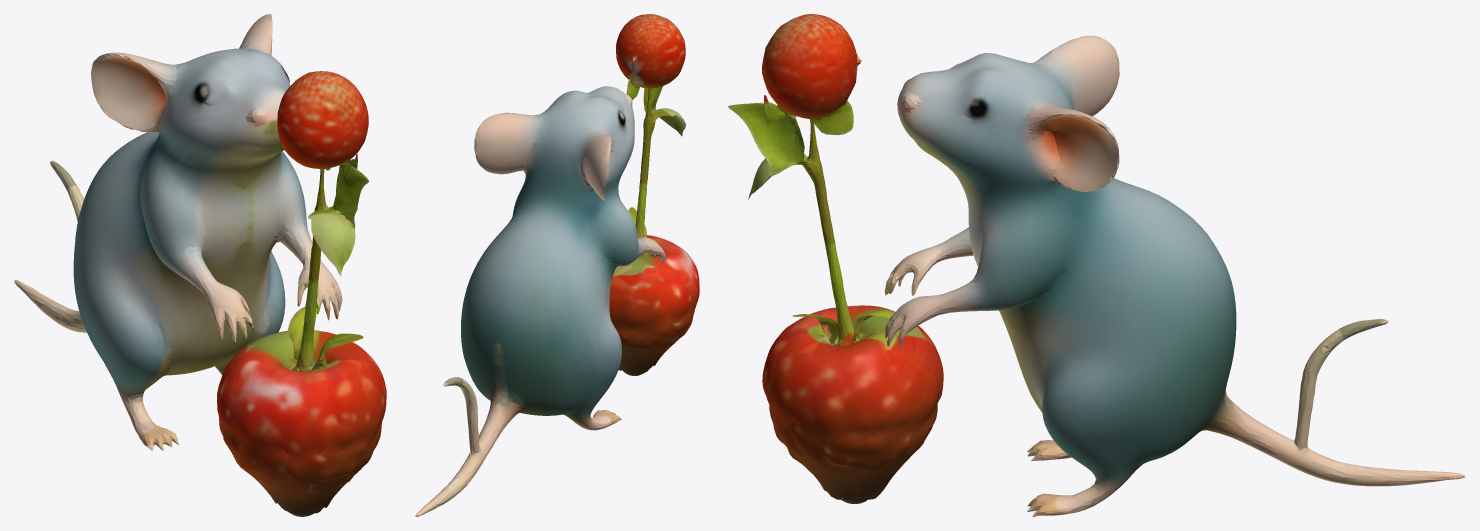
3 renders of one model, left to right at view 1: azimuth 30°, elevation 25°; view 2: azimuth 150°, elevation 25°; view 3: azimuth 270°, elevation 25°, orthographic. The views are drawn at different scales.
Parts seen in each view (by area): view 1: 009; view 2: 009; view 3: 009.
Boxes of the visible parts, <box> form: 009: <box>14,14,386,516</box>; 009: <box>415,14,699,516</box>; 009: <box>728,14,1465,516</box>.
Bounding box in the file's own units: 0.5629 × 1.37 × 1.9.
Materials: 1 (1 with a texture image).
